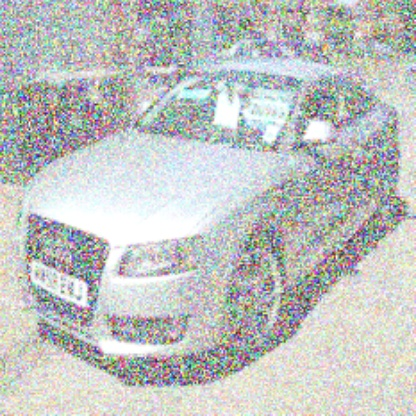Vehicle: (15, 58, 403, 375)
